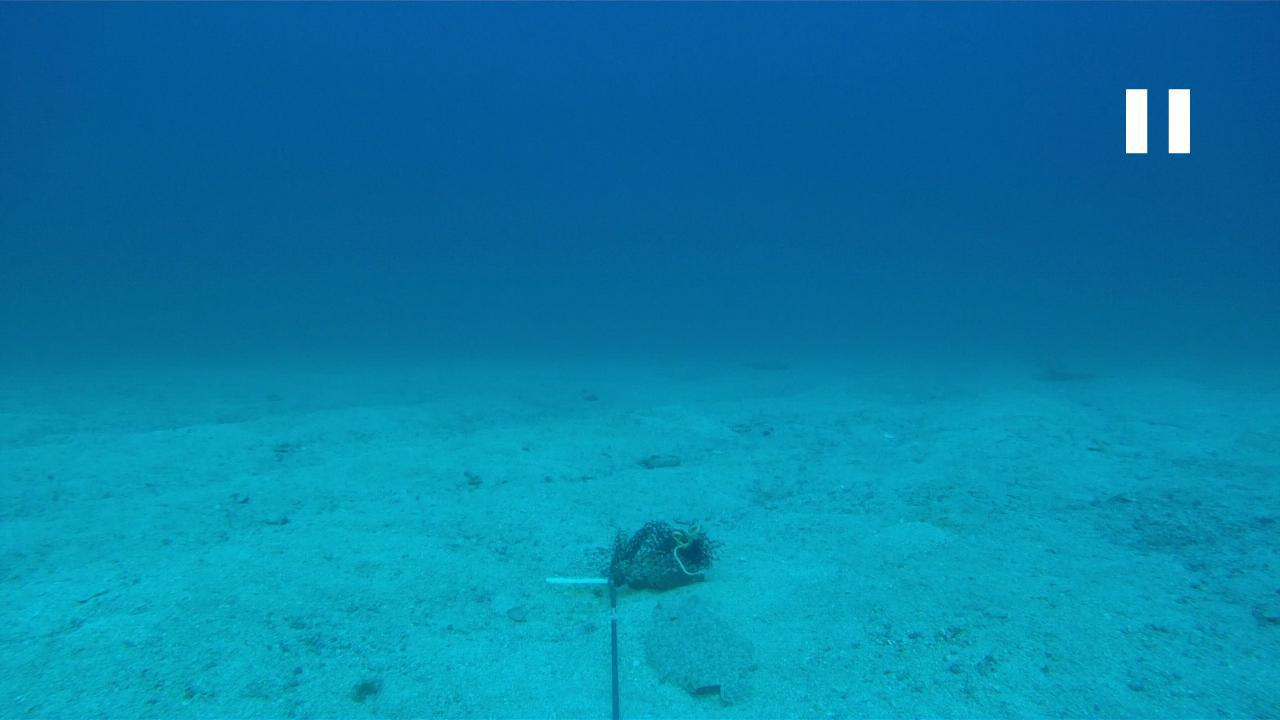bothus: (640, 595, 773, 708)
